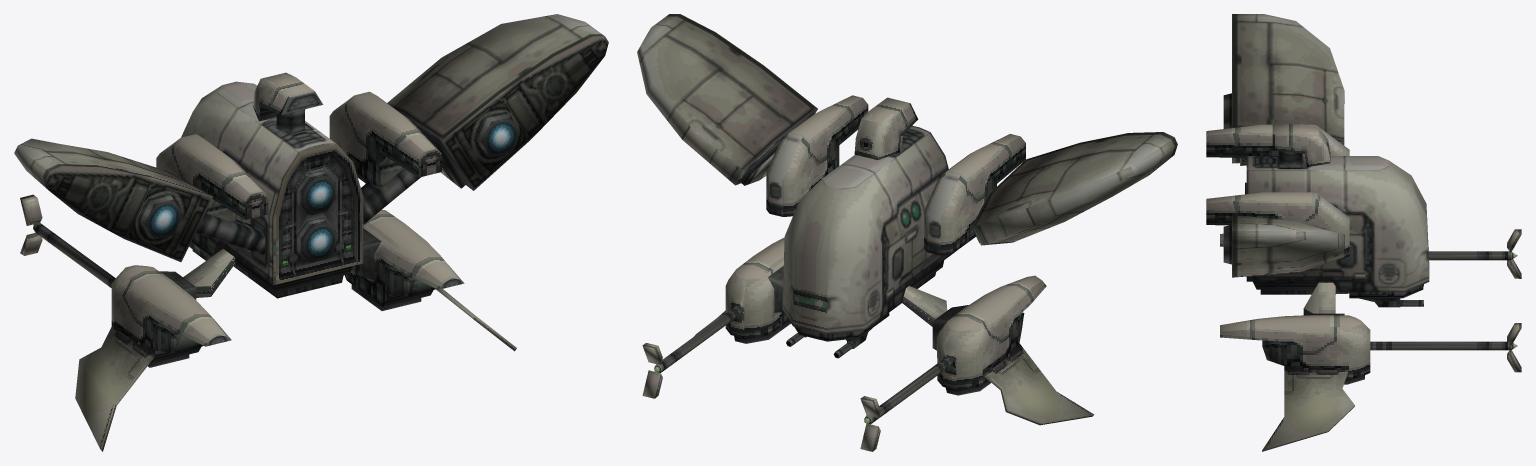
File: bsi_zeroid.gltf
3 views of the same model, side by side, from view 1: azimuth 30°, elevation 25°; view 2: azimuth 150°, elevation 25°; view 3: azimuth 270°, elevation 25° (orthographic). The views are drawn at different scales.
Visible parts, largest first — view 1: Object 2, Object 1, Object 4, Object 5, Object 6, Object 3; view 2: Object 1, Object 2, Object 4, Object 5, Object 6, Object 3; view 3: Object 1, Object 4, Object 6, Object 2, Object 3, Object 5.
Part boxes in pixels (x1,y1,x2,y2): Object 2: (329, 14, 608, 224); Object 1: (181, 81, 363, 298); Object 4: (14, 134, 268, 261); Object 5: (20, 194, 235, 451); Object 6: (344, 209, 516, 351); Object 3: (253, 72, 323, 132); Object 1: (782, 125, 954, 358); Object 2: (637, 14, 868, 216); Object 4: (924, 132, 1177, 255); Object 5: (860, 275, 1094, 451); Object 6: (642, 237, 790, 398); Object 3: (854, 97, 918, 160); Object 1: (1245, 156, 1429, 307); Object 4: (1206, 14, 1349, 165); Object 6: (1220, 282, 1521, 451); Object 2: (1206, 192, 1349, 277); Object 3: (1272, 124, 1330, 167); Object 5: (1220, 229, 1521, 293).
Bounding box in the file's own units: 561 × 299 × 340.
8 materials, 8 textured.
